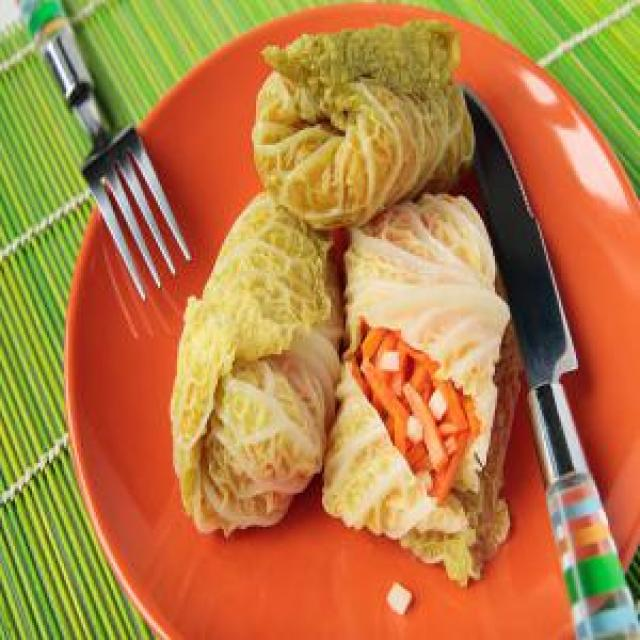knife: (454, 72, 638, 638)
